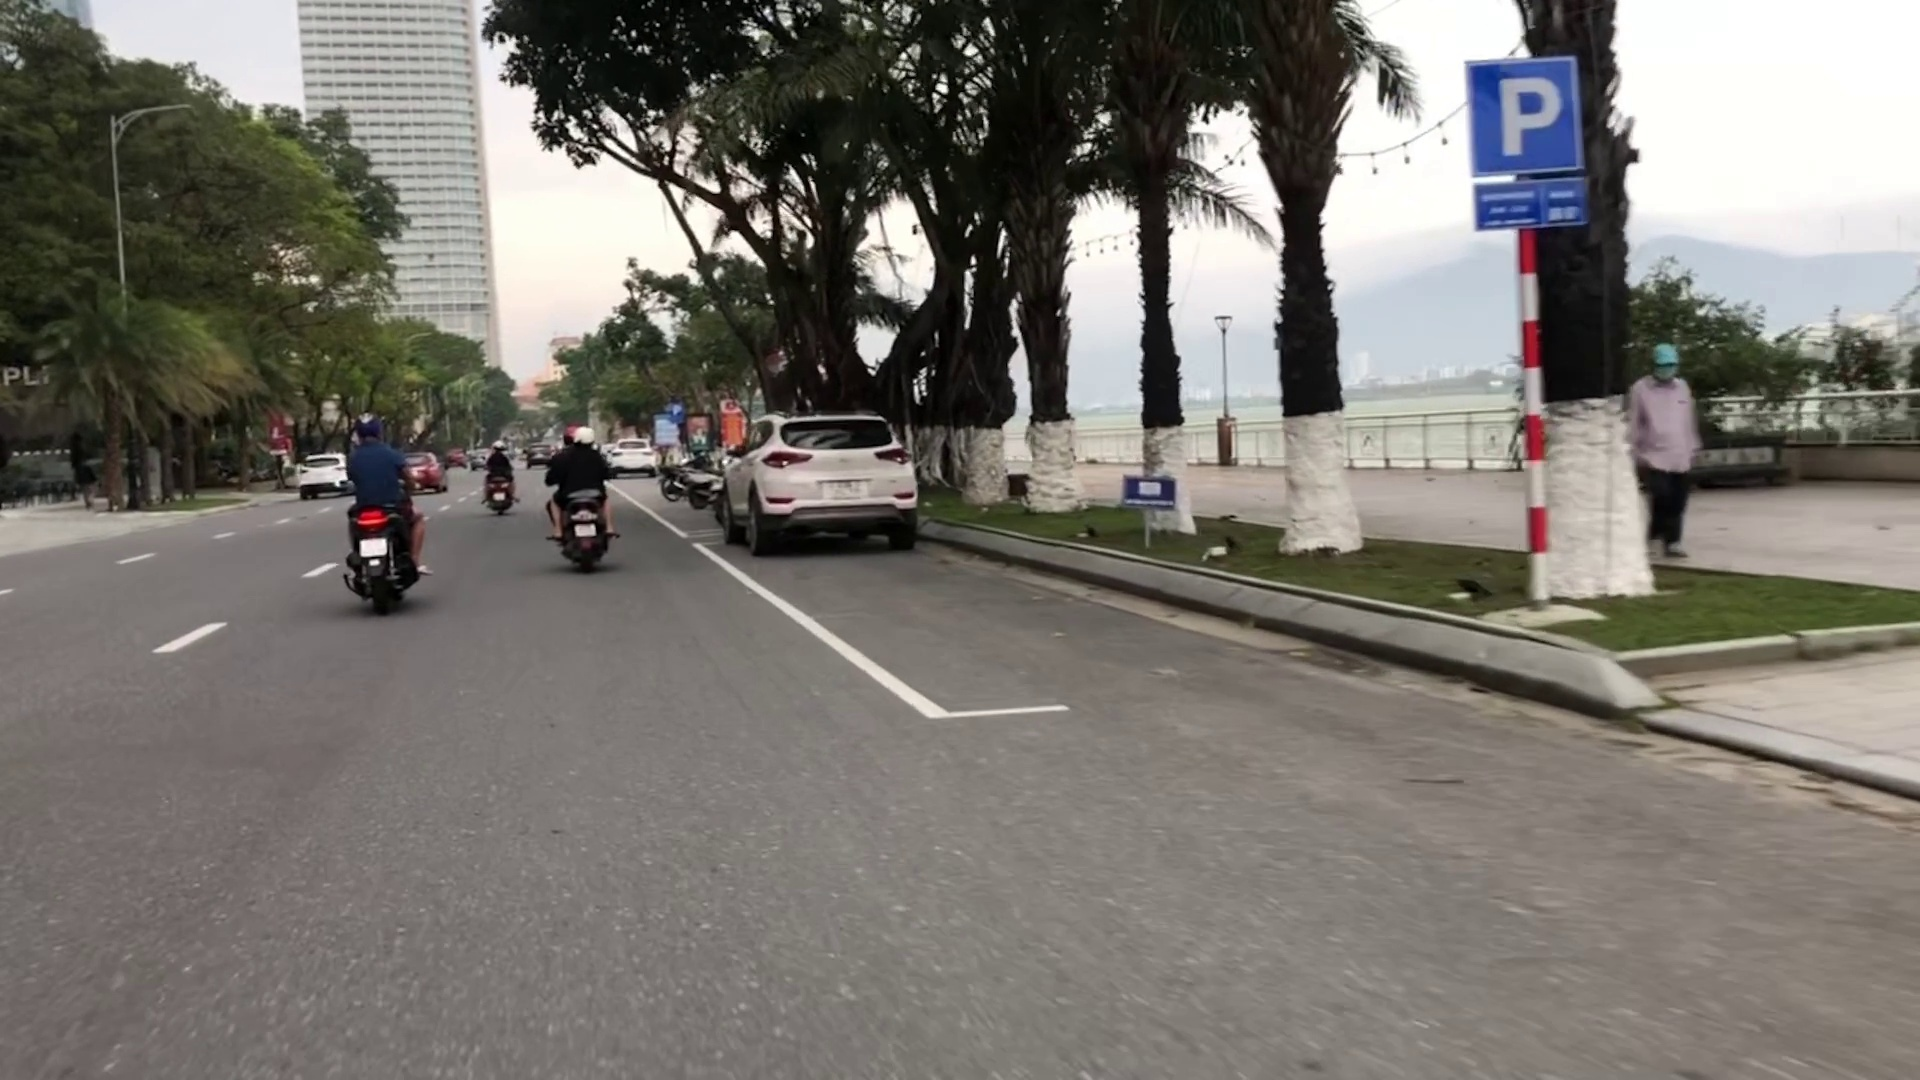Bien khac: (1466, 53, 1582, 175), (671, 400, 682, 419)
